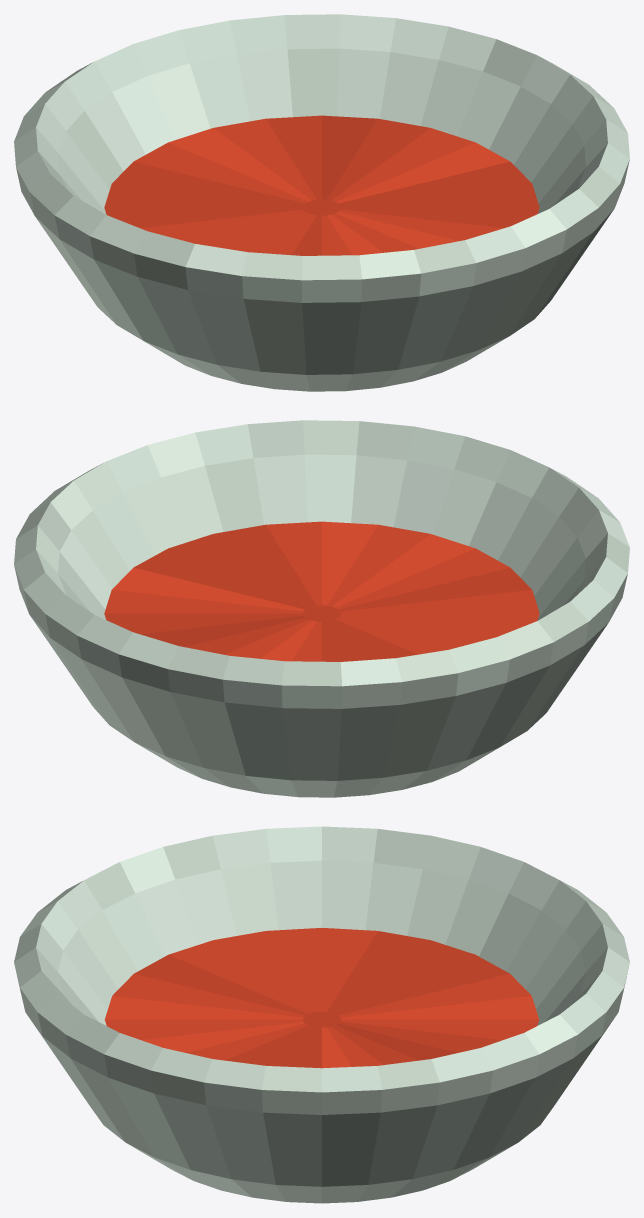
The model's file is ED_09_Filled_Dipping_Dish.fbx.
3 renders of one model, top to bottom at view 1: azimuth 30°, elevation 25°; view 2: azimuth 150°, elevation 25°; view 3: azimuth 270°, elevation 25°, orthographic.
Parts seen in each view (by area): view 1: ED_09_Filled_Dipping_Dish; view 2: ED_09_Filled_Dipping_Dish; view 3: ED_09_Filled_Dipping_Dish.
Part boxes in pixels (x1,y1,x2,y2): ED_09_Filled_Dipping_Dish: (14, 14, 629, 391); ED_09_Filled_Dipping_Dish: (14, 420, 629, 797); ED_09_Filled_Dipping_Dish: (14, 826, 629, 1203).
Bounding box in the file's own units: 1.12 × 0.38 × 1.12.
2 materials, 2 textured.
